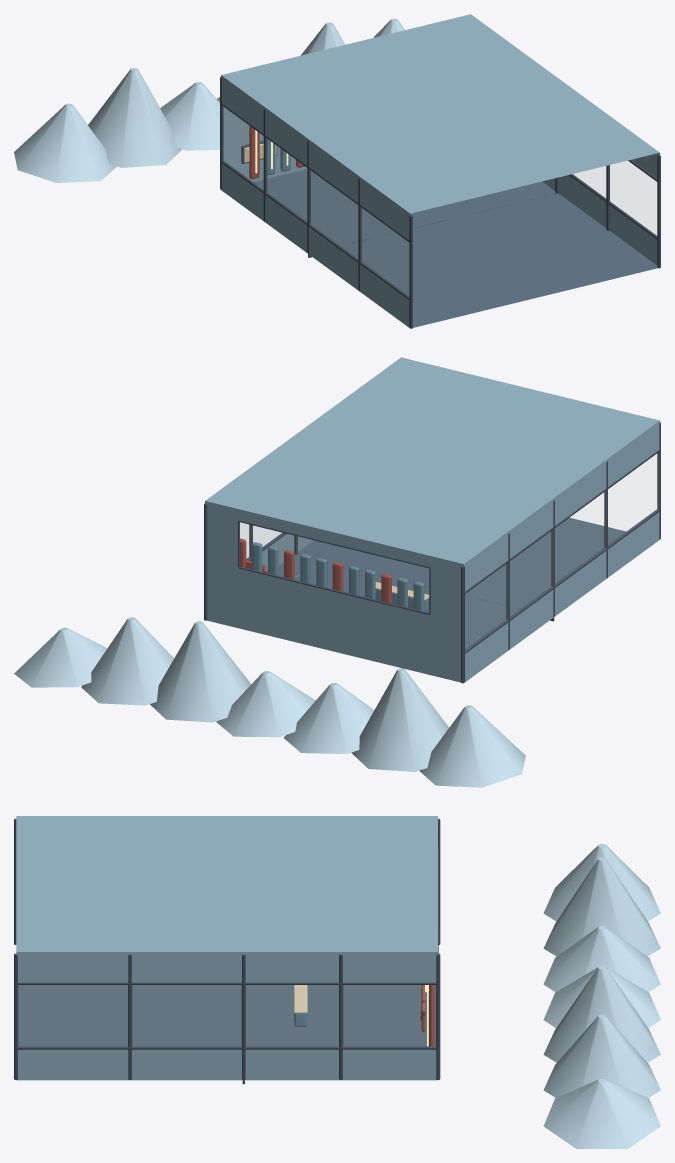
The model's file is garage.glb.
The picture shows the model from 3 angles, top to bottom: view 1: azimuth 30°, elevation 25°; view 2: azimuth 150°, elevation 25°; view 3: azimuth 270°, elevation 25°; orthographic projection. The views are drawn at different scales.
Parts seen in each view (by area): view 1: Roof panels - Wall, Floor extension - Floor, Outside the glazing - Glass rim, Port wall - Wall, Floor - Floor, Port wall - Rib, Starboard wall - Wall, Rear bulkhead - Wall, Starboard wall - Rib, Signature architecture - Accent; view 2: Roof panels - Wall, Outside the glazing - Glass rim, Rear bulkhead - Wall, Port wall - Wall, Floor extension - Floor, Port wall - Rib, Floor - Floor, Signature architecture - Secondary, Rear bulkhead - Rib, Signature architecture - Accent, Starboard wall - Rib, Starboard wall - Wall; view 3: Roof panels - Wall, Outside the glazing - Glass rim, Starboard wall - Wall, Floor extension - Floor, Floor - Floor, Starboard wall - Rib, Port wall - Rib.
Part boxes in pixels (<box>): Roof panels - Wall: <box>221,14,659,213</box>; Floor extension - Floor: <box>341,193,657,327</box>; Outside the glazing - Glass rim: <box>14,18,404,182</box>; Port wall - Wall: <box>221,75,410,327</box>; Floor - Floor: <box>253,169,555,245</box>; Port wall - Rib: <box>220,77,412,328</box>; Starboard wall - Wall: <box>542,153,659,265</box>; Rear bulkhead - Wall: <box>223,107,307,181</box>; Starboard wall - Rib: <box>555,154,660,268</box>; Signature architecture - Accent: <box>249,126,304,178</box>; Roof panels - Wall: <box>205,357,659,563</box>; Outside the glazing - Glass rim: <box>14,617,525,787</box>; Rear bulkhead - Wall: <box>205,501,463,682</box>; Port wall - Wall: <box>464,421,659,682</box>; Floor extension - Floor: <box>297,517,626,608</box>; Port wall - Rib: <box>461,422,660,683</box>; Floor - Floor: <box>278,554,519,649</box>; Signature architecture - Secondary: <box>251,542,424,611</box>; Rear bulkhead - Rib: <box>238,520,430,614</box>; Signature architecture - Accent: <box>240,538,391,603</box>; Starboard wall - Rib: <box>204,503,297,620</box>; Starboard wall - Wall: <box>262,534,313,569</box>; Roof panels - Wall: <box>16,816,437,951</box>; Outside the glazing - Glass rim: <box>543,843,660,1148</box>; Starboard wall - Wall: <box>16,952,437,1080</box>; Floor extension - Floor: <box>18,985,241,1046</box>; Floor - Floor: <box>246,985,435,1046</box>; Starboard wall - Rib: <box>14,953,440,1079</box>; Port wall - Rib: <box>14,818,440,944</box>.
Size of the model in its own units: 36.79 by 9.43 by 38.64.
